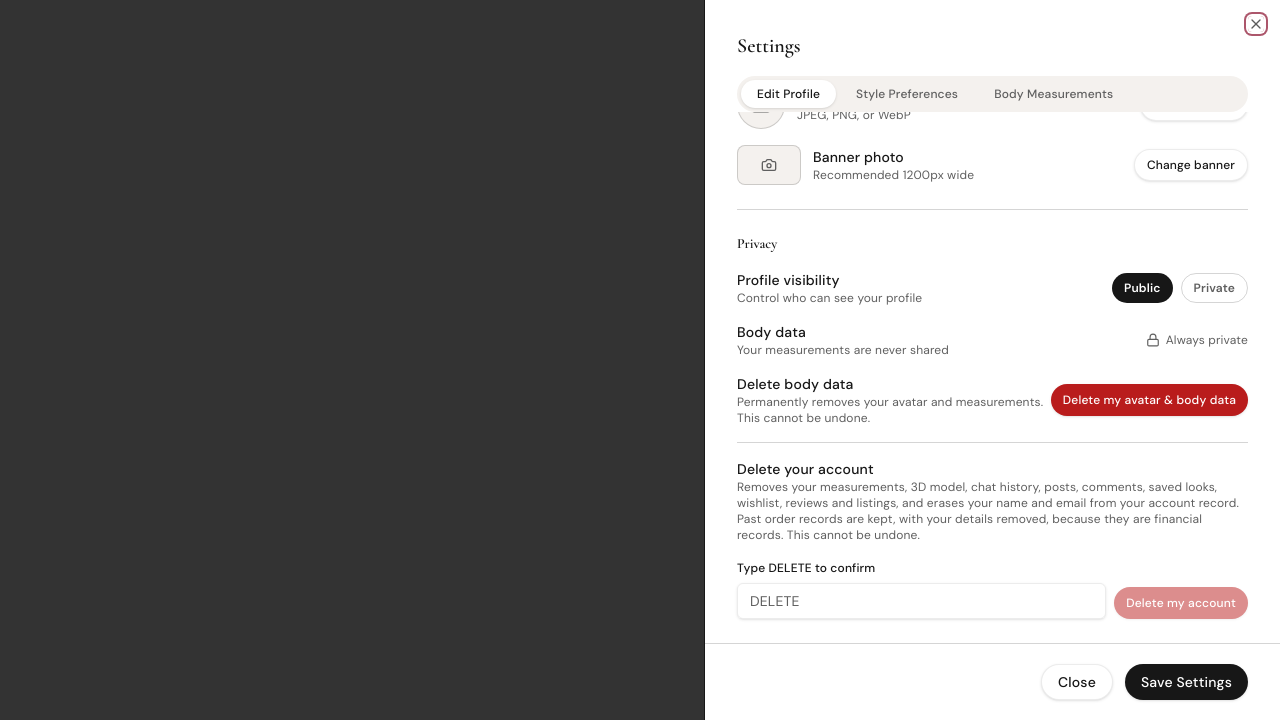
Scenario: ProfileSettingsDialog delete-confirm reset › shows Confirm/Cancel after clicking Delete
The width and height of the screenshot is (1280, 720).
(page scrolled)
Click the button "Delete my avatar & body data".
click(1149, 400)  # box left=1051, top=384, right=1248, bottom=416
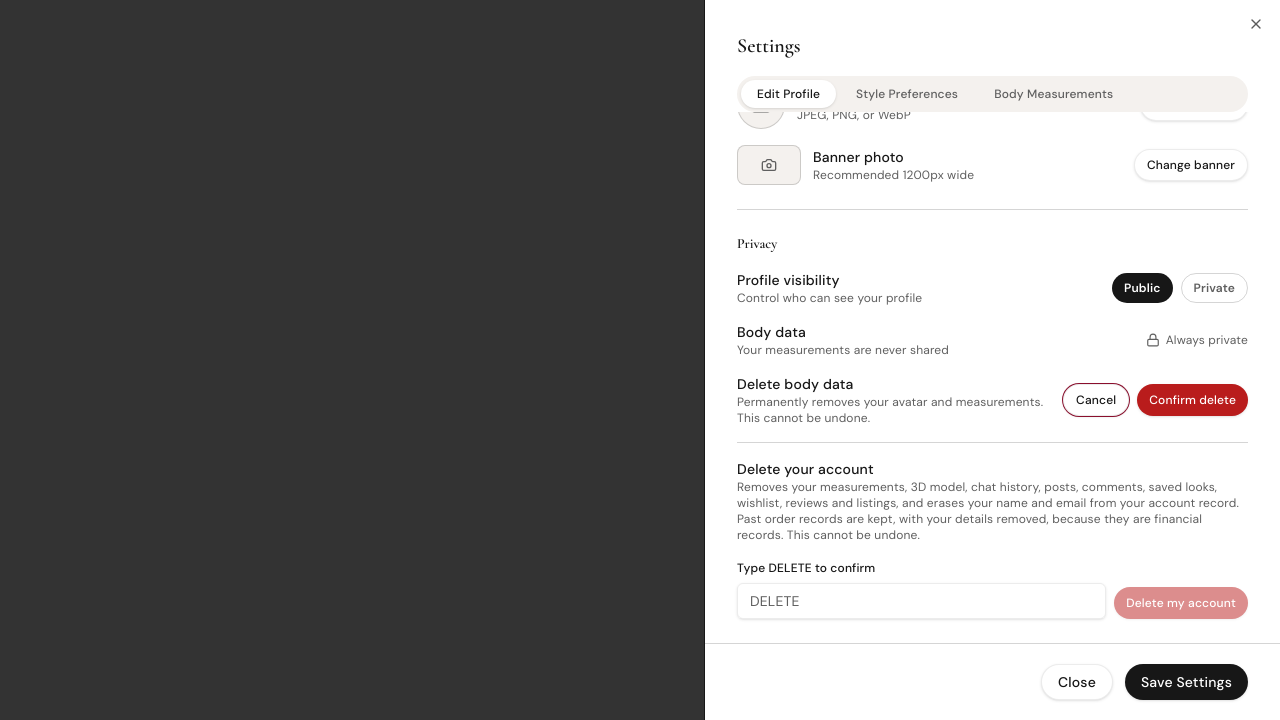
Check: the button "Confirm delete" is shown, box left=1137, top=384, right=1248, bottom=416
Check: the button "Cancel" is shown, box left=1063, top=384, right=1129, bottom=416
